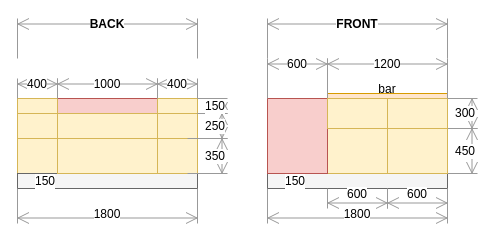
Some shapes in this 495 by 241 pixel diagram are drawn without their labels. Here are the shapes that lost their labels. From the top down, the centre of each, then its label:
(107,106): sporák
(297,136): mini chladnička
